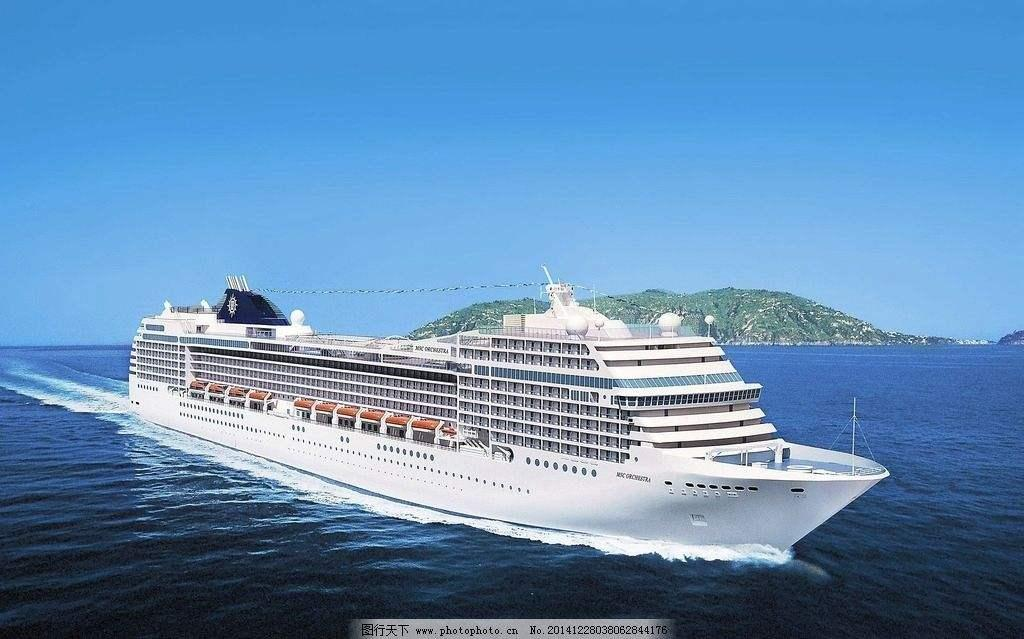youlun: (123, 267, 893, 552)
